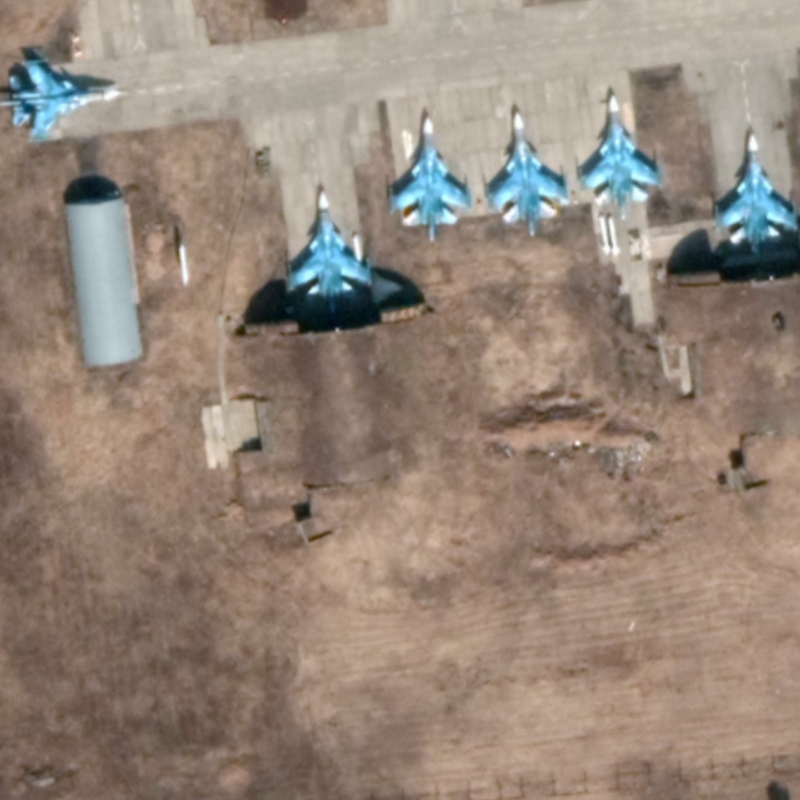A19: (275, 180, 379, 318), (480, 99, 576, 242), (380, 107, 477, 246), (572, 85, 667, 213), (711, 125, 800, 257), (2, 52, 125, 141)
